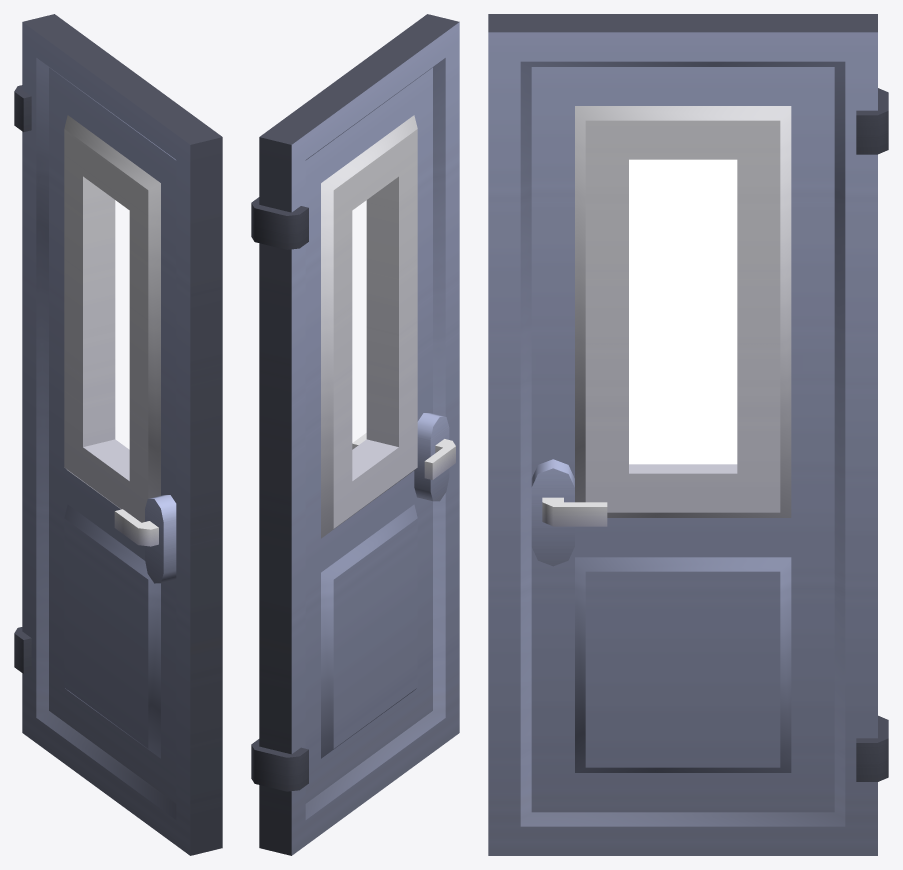
File: Modern door.glb
3 renders of one model, left to right at view 1: azimuth 30°, elevation 25°; view 2: azimuth 150°, elevation 25°; view 3: azimuth 270°, elevation 25°, orthographic. The views are drawn at different scales.
Parts seen in each view (by area): view 1: door, handle; view 2: door, handle; view 3: door, (%ignore), handle.
Boxes of the visible parts, x1,y1,x2,y2 form: door: (14,14,222,855); handle: (114,509,158,546); door: (251,14,459,855); handle: (352,433,455,479); door: (488,14,888,855); (%ignore): (629,159,737,464); handle: (542,497,607,526).
Bounding box in the file's own units: 0.25 × 2.1 × 0.925.
Materials: 2 (1 with a texture image).
